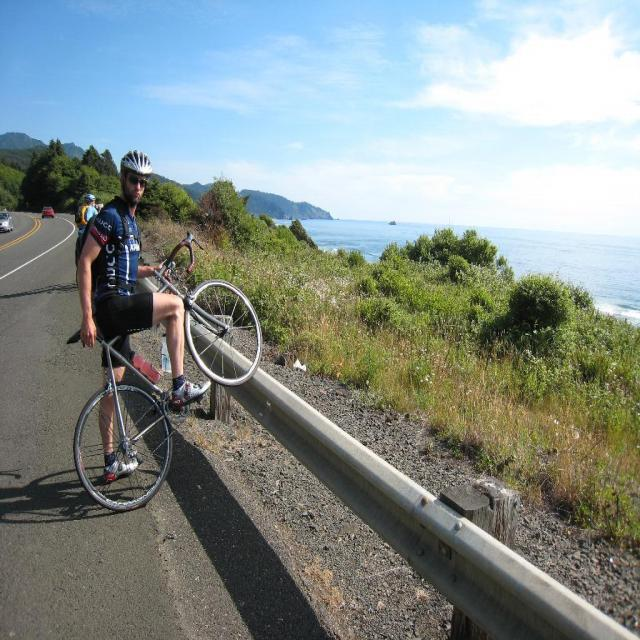car: (70, 240, 248, 511)
